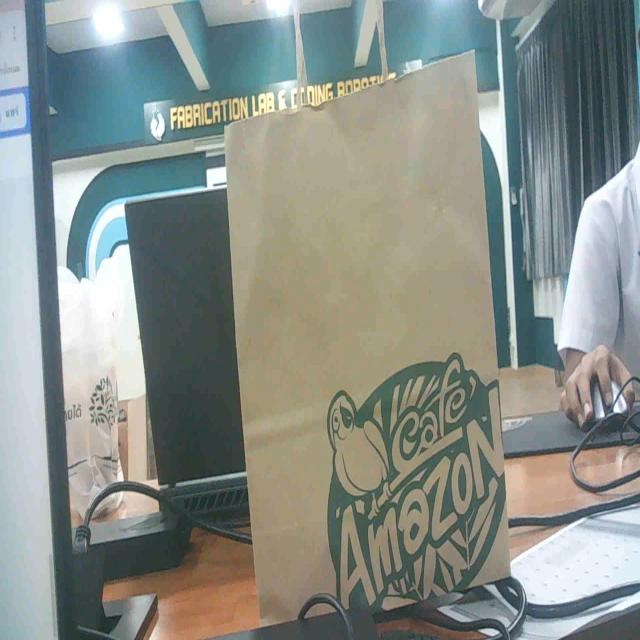bag: (208, 66, 524, 602)
